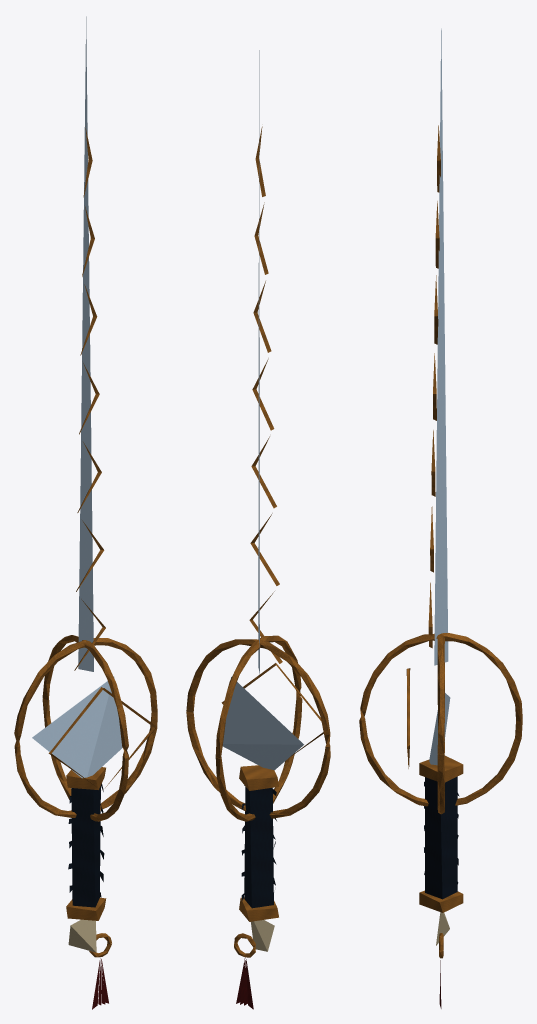
File: ceremonial-rapier_lod2.glb
The picture shows the model from 3 angles, left to right: view 1: azimuth 30°, elevation 25°; view 2: azimuth 150°, elevation 25°; view 3: azimuth 270°, elevation 25°; orthographic projection.
Parts seen in each view (by area): view 1: Faceted_mirror_rapier_blade.001, Faceted_mirror_guard.001, Navy_wrapped_grip.001, Orbital_gold_guard.002, Orbital_gold_guard.003, Ivory_diamond_pommel.001, Gold_grip_ferrule.002, Gold_grip_ferrule.003; view 2: Faceted_mirror_guard.001, Orbital_gold_guard.002, Navy_wrapped_grip.001, Orbital_gold_guard.003, Faceted_mirror_rapier_blade.001, Gold_grip_ferrule.003, Gold_grip_ferrule.002, Ivory_diamond_pommel.001; view 3: Faceted_mirror_rapier_blade.001, Navy_wrapped_grip.001, Orbital_gold_guard.003, Orbital_gold_guard.002, Gold_grip_ferrule.003, Gold_grip_ferrule.002, Faceted_mirror_guard.001.
Boxes of the visible parts, x1,y1,x2,y2 form: Faceted_mirror_rapier_blade.001: (78, 16, 93, 671); Faceted_mirror_guard.001: (32, 676, 122, 778); Navy_wrapped_grip.001: (71, 786, 100, 907); Orbital_gold_guard.002: (14, 638, 157, 817); Orbital_gold_guard.003: (42, 635, 128, 821); Ivory_diamond_pommel.001: (68, 919, 96, 952); Gold_grip_ferrule.002: (66, 897, 106, 920); Gold_grip_ferrule.003: (66, 767, 105, 789); Faceted_mirror_guard.001: (222, 677, 303, 770); Orbital_gold_guard.002: (186, 639, 330, 818); Navy_wrapped_grip.001: (244, 786, 273, 908); Orbital_gold_guard.003: (215, 635, 302, 821); Faceted_mirror_rapier_blade.001: (258, 50, 259, 673); Gold_grip_ferrule.003: (239, 765, 278, 790); Gold_grip_ferrule.002: (239, 897, 278, 921); Ivory_diamond_pommel.001: (251, 920, 274, 951); Faceted_mirror_rapier_blade.001: (434, 28, 448, 665); Navy_wrapped_grip.001: (425, 776, 457, 899); Orbital_gold_guard.003: (359, 633, 522, 806); Orbital_gold_guard.002: (437, 633, 444, 814); Gold_grip_ferrule.003: (419, 755, 463, 782); Gold_grip_ferrule.002: (419, 890, 463, 912); Faceted_mirror_guard.001: (429, 693, 450, 765).
Bounding box in the file's own units: 0.1822 × 1.22 × 0.1832.
Materials: 5 (5 with a texture image).
